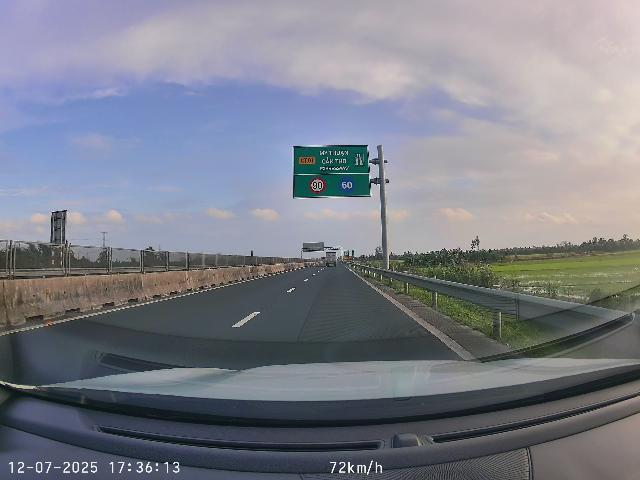127-toc-do-toi-da-90: (309, 177, 326, 193)
306-toc-do-toi-thieu-60: (338, 176, 355, 193)
437-bat-dau-duong-cao-toc: (353, 152, 365, 167)
